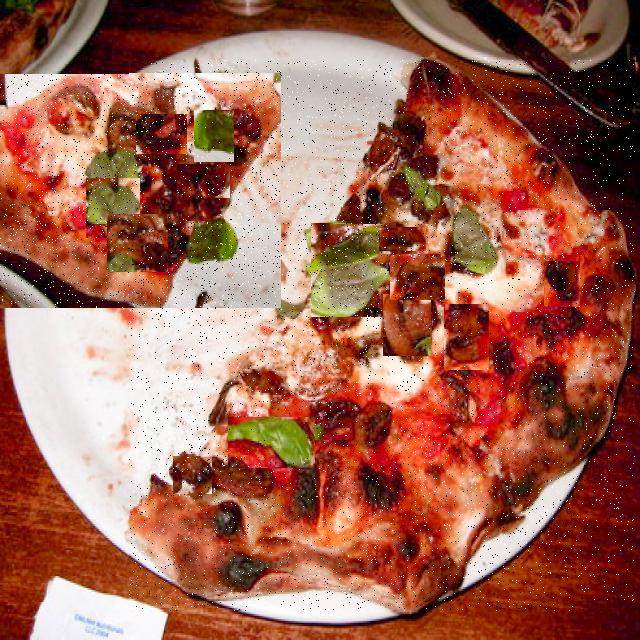Basil: (311, 224, 396, 317), (228, 418, 315, 468), (86, 178, 140, 238), (450, 210, 498, 273), (194, 110, 234, 162), (402, 170, 439, 208)
Mushrooms: (108, 214, 170, 272), (201, 454, 271, 505), (383, 294, 431, 356), (444, 305, 489, 370), (333, 182, 385, 232), (390, 255, 445, 300), (149, 184, 219, 216), (136, 114, 187, 154), (392, 93, 423, 155), (177, 164, 230, 198), (360, 395, 397, 441), (544, 262, 580, 307), (173, 457, 212, 494), (144, 158, 184, 191), (379, 228, 426, 251)
Pizza: (130, 60, 635, 611), (0, 74, 281, 308)
